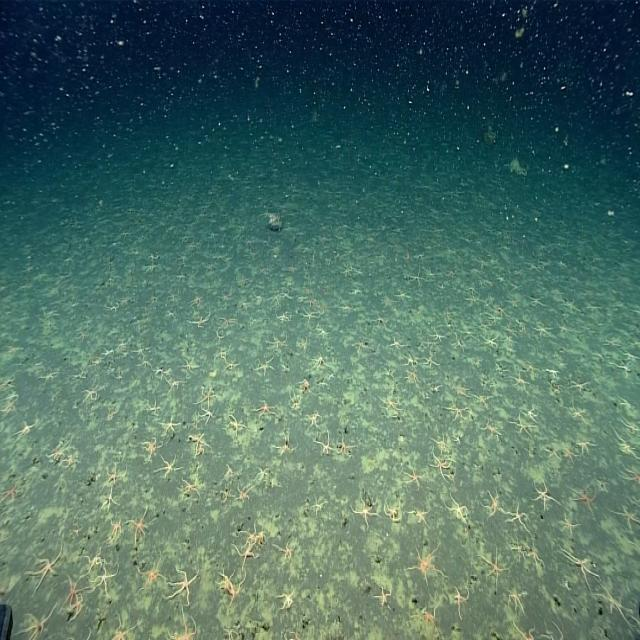brittle-stars: (559, 545, 595, 586), (26, 546, 60, 589), (478, 548, 508, 589), (409, 546, 442, 583), (215, 566, 245, 606), (568, 480, 599, 517), (600, 583, 628, 621), (16, 611, 51, 640), (170, 565, 196, 604), (137, 555, 164, 591), (414, 600, 440, 637), (349, 495, 376, 530), (168, 610, 198, 640), (93, 564, 118, 599), (128, 508, 152, 544), (613, 503, 640, 535), (530, 476, 554, 509), (232, 540, 259, 569), (104, 616, 136, 640), (444, 495, 469, 525), (507, 503, 531, 534), (430, 448, 454, 479), (510, 411, 534, 440), (157, 453, 182, 480), (273, 431, 296, 460), (226, 412, 249, 441), (186, 429, 211, 455), (451, 584, 471, 616), (482, 488, 504, 517), (0, 477, 21, 507), (383, 496, 404, 525), (104, 461, 124, 491), (255, 400, 279, 425), (179, 475, 201, 502), (314, 430, 334, 459), (445, 401, 470, 424), (275, 587, 297, 613), (106, 515, 124, 546), (84, 548, 106, 573), (620, 464, 640, 491), (376, 584, 394, 613), (276, 539, 296, 565), (507, 588, 527, 614), (64, 576, 80, 608), (512, 623, 542, 640), (409, 506, 431, 529), (13, 418, 35, 441), (405, 464, 425, 489), (159, 413, 178, 439), (70, 592, 87, 621), (337, 434, 355, 461), (568, 374, 589, 397), (140, 436, 160, 460), (255, 355, 277, 376), (380, 391, 402, 412), (558, 513, 578, 536), (48, 442, 68, 465), (527, 546, 544, 573), (513, 370, 531, 395), (198, 385, 218, 407), (100, 490, 119, 513), (1, 397, 20, 420), (560, 443, 578, 467), (575, 437, 594, 459), (194, 388, 213, 410), (189, 312, 212, 330), (311, 352, 331, 372), (198, 406, 218, 426), (39, 366, 58, 387), (434, 434, 452, 456), (512, 538, 528, 562), (180, 355, 199, 375), (145, 396, 162, 418), (311, 493, 328, 515), (240, 479, 256, 502), (532, 320, 552, 338), (422, 351, 439, 372), (84, 384, 100, 406), (269, 334, 288, 352), (237, 484, 252, 506), (285, 625, 307, 640), (482, 334, 500, 352), (478, 330, 496, 348), (372, 310, 388, 330), (288, 391, 302, 413), (167, 376, 184, 394), (254, 463, 270, 482), (304, 411, 320, 430), (410, 268, 425, 288), (0, 576, 10, 606), (428, 328, 445, 345), (557, 318, 573, 336), (407, 367, 421, 387), (219, 315, 237, 330), (390, 333, 404, 352), (394, 286, 410, 302), (74, 326, 90, 342), (133, 344, 148, 360), (71, 324, 86, 340), (300, 307, 317, 321), (316, 323, 330, 339), (218, 288, 232, 303), (318, 327, 332, 342), (406, 352, 418, 369)
